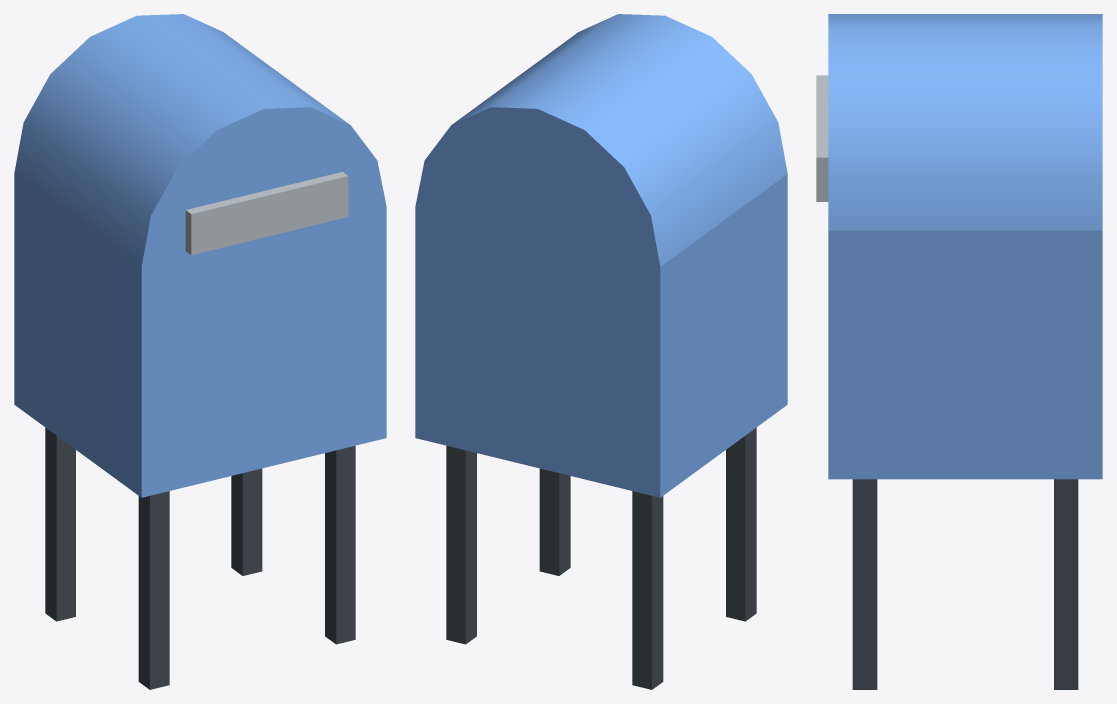
File: SM_Mailbox.obj
3 renders of one model, left to right at view 1: azimuth 30°, elevation 25°; view 2: azimuth 150°, elevation 25°; view 3: azimuth 270°, elevation 25°, orthographic. The views are drawn at different scales.
Visible parts, largest first — view 1: Mailbox; view 2: Mailbox; view 3: Mailbox.
Boxes of the visible parts, x1,y1,x2,y2 form: Mailbox: (14, 14, 386, 689); Mailbox: (415, 14, 787, 689); Mailbox: (816, 14, 1102, 689).
Size of the model in its own units: 0.5 by 1.1 by 0.47.
